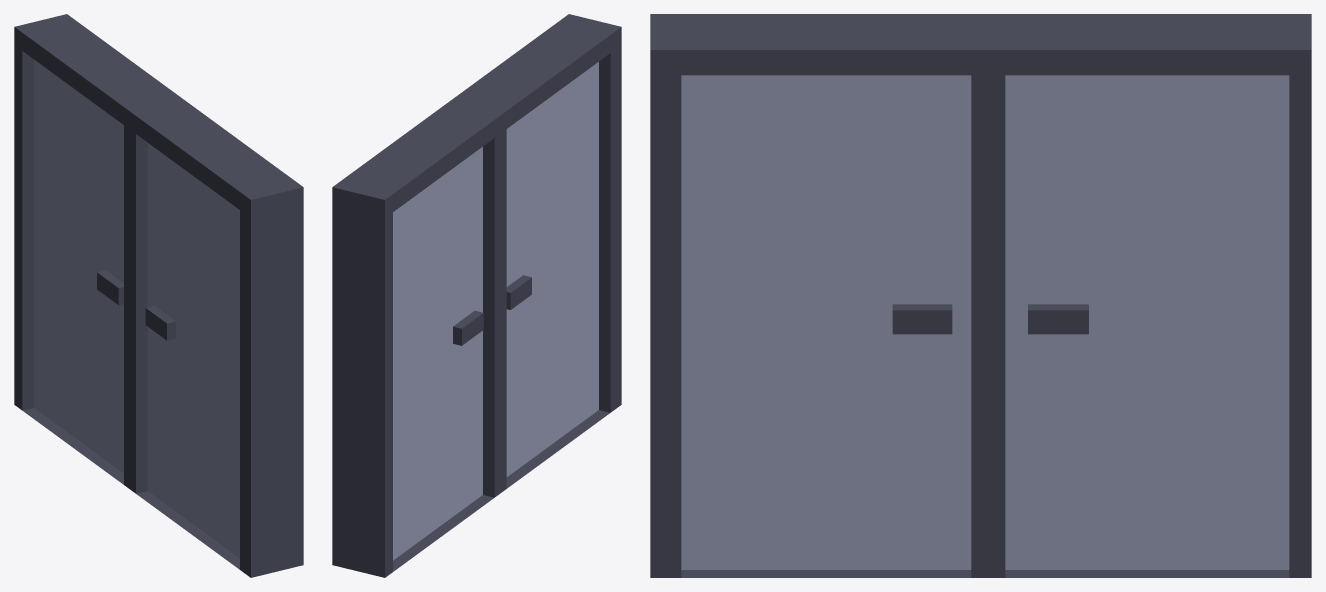
Rendered from STORE door.fbx.
The picture shows the model from 3 angles, left to right: view 1: azimuth 30°, elevation 25°; view 2: azimuth 150°, elevation 25°; view 3: azimuth 270°, elevation 25°; orthographic projection. The views are drawn at different scales.
Parts seen in each view (by area): view 1: door; view 2: door; view 3: door.
Part boxes in pixels (box(x1,y1,x2,y2)): door: box(14, 14, 303, 577); door: box(332, 14, 621, 577); door: box(650, 14, 1311, 577).
Bounding box in the file's own units: 1.02 × 7.92 × 6.98.
